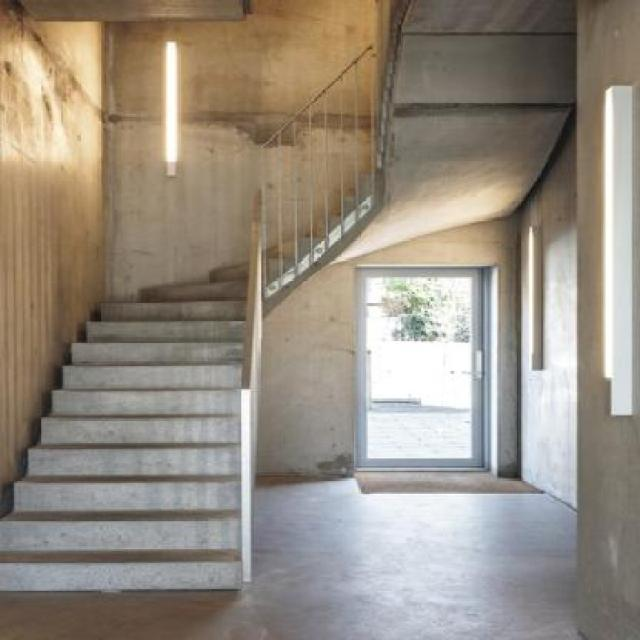stair: (0, 40, 371, 620)
